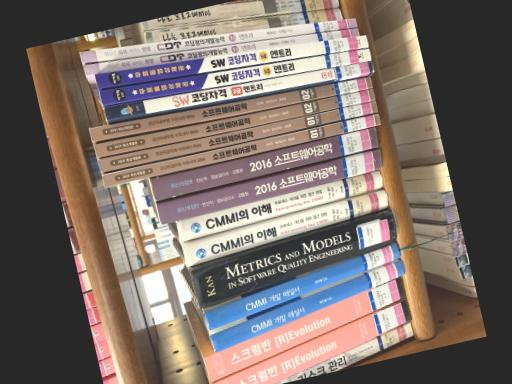book-spine: (203, 275, 407, 381), (189, 207, 396, 306), (102, 113, 380, 186), (97, 100, 378, 170), (93, 88, 375, 155), (88, 75, 372, 140), (210, 258, 405, 352), (211, 298, 412, 384), (203, 241, 400, 328), (156, 148, 381, 224), (150, 126, 378, 199), (103, 60, 373, 118), (98, 47, 371, 104), (182, 189, 389, 264), (175, 169, 382, 241), (94, 34, 368, 88), (82, 27, 358, 73), (78, 17, 356, 61), (274, 321, 414, 384), (144, 6, 343, 42), (142, 0, 339, 27)
